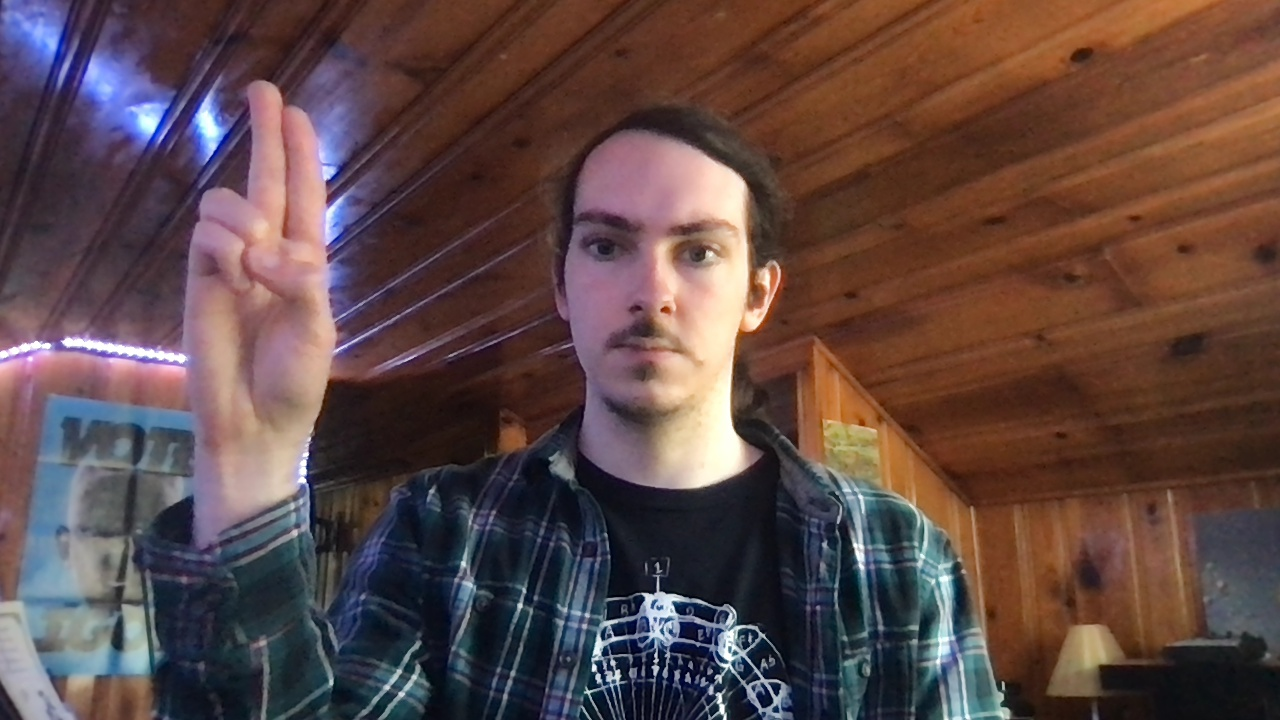u: (182, 78, 337, 449)
